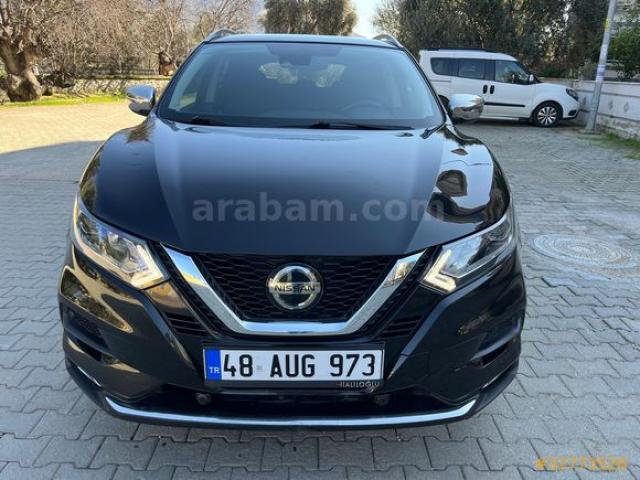plaka: (205, 349, 383, 381)
